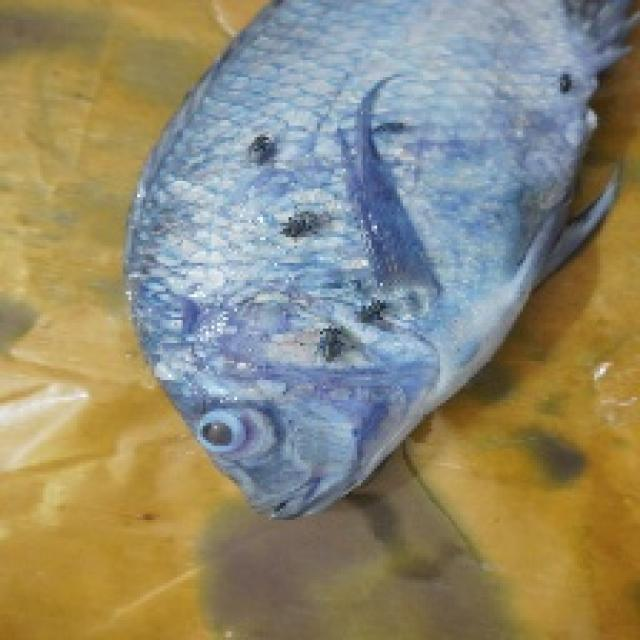Non-Fresh: (154, 8, 596, 546), (205, 392, 296, 485)
